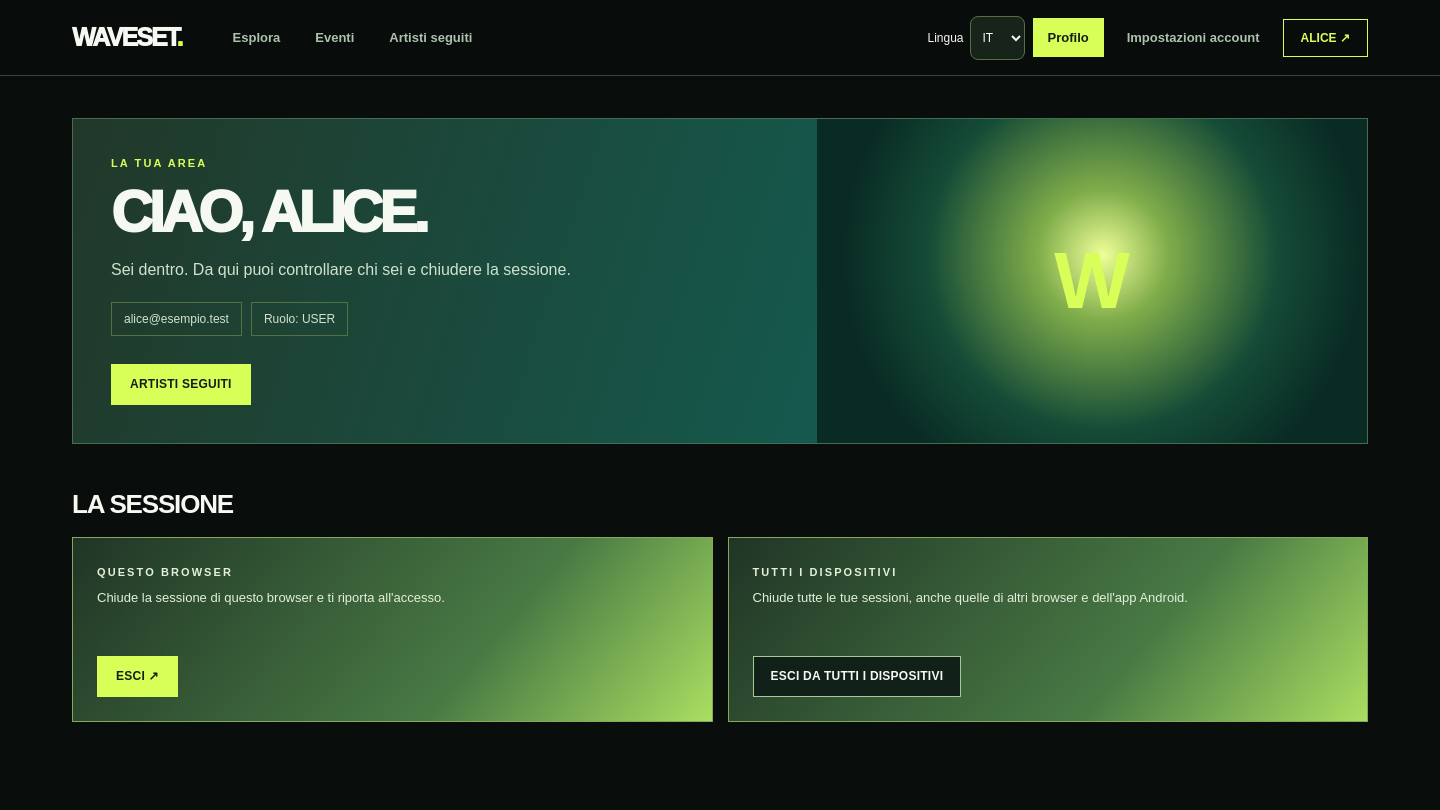
uscita: POST /api/auth/logout › con il token CSRF letto dalla risposta del browser, poi torna all'accesso e dimentica il token
The width and height of the screenshot is (1440, 810).
Expected: the heading "Ciao, Alice." is shown, top-left (111, 180), bottom-right (425, 244)
Click the button "Esci ↗" at (137, 677), box top-left (97, 656), bottom-right (178, 697)
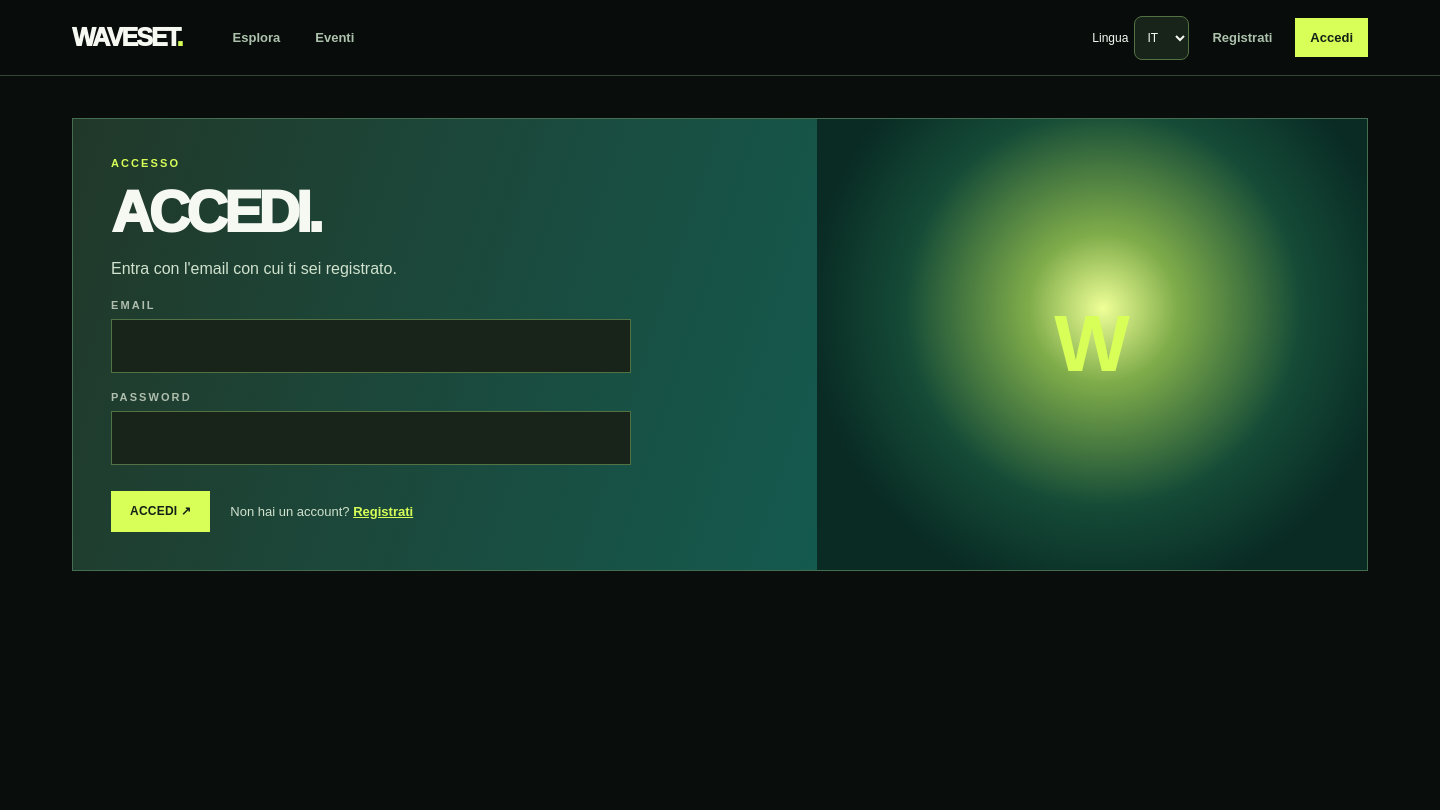
Now the heading "Accedi." is shown, box top-left (111, 180), bottom-right (320, 244)
Now the link "Registrati" next to "Lingua" is shown, box top-left (1212, 30), bottom-right (1272, 45)
Now the heading "Ciao, Alice." is gone
